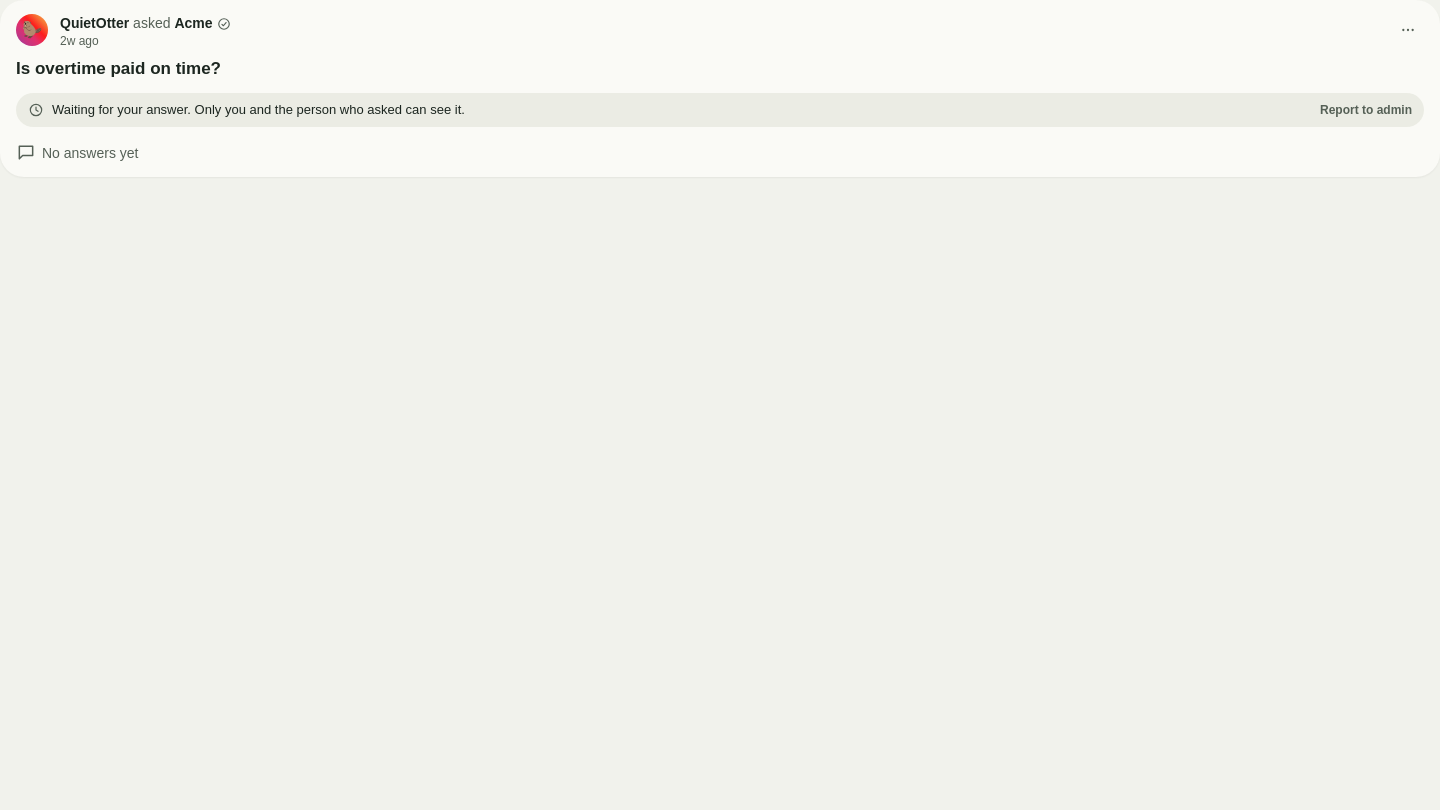
Test: the company's owner reports a question to the admins from the card itself
Click the button "Report to admin".
click(1366, 110)  # box [1320,102,1412,118]
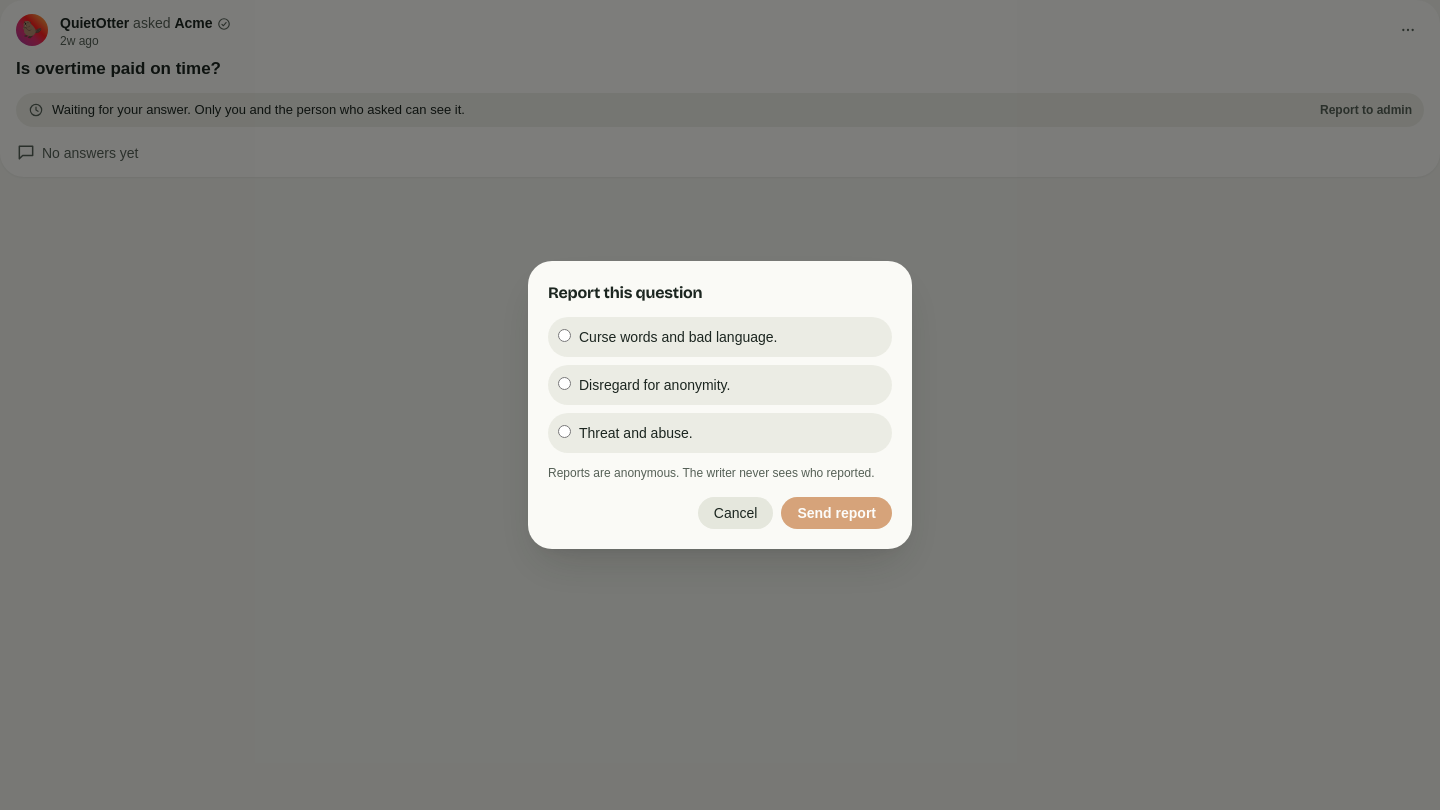
Click the radio button labelled "Threat and abuse.".
click(564, 432)  # box [558,425,571,438]
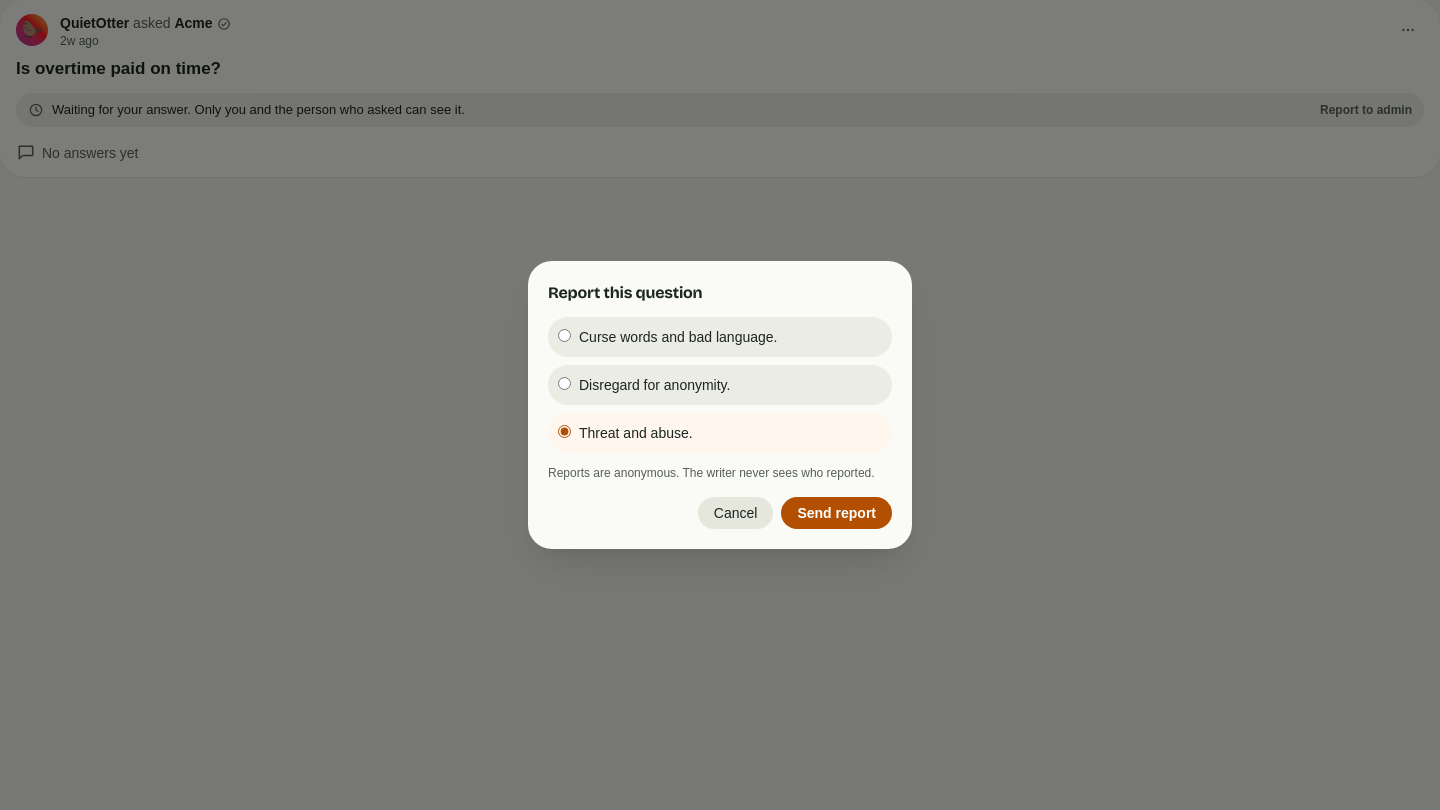
Click the button "Send report".
click(837, 513)  # box [781,497,892,529]
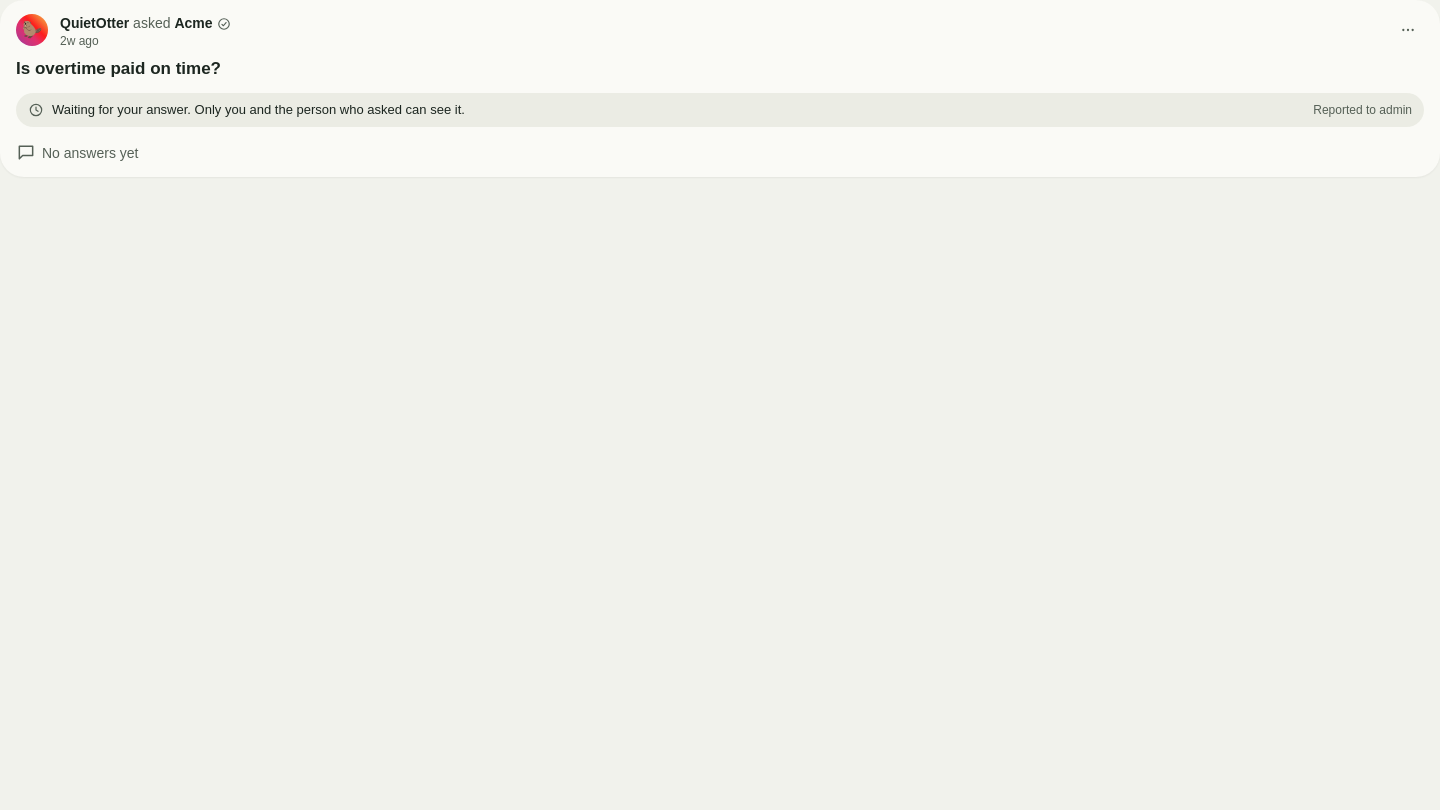
Check: the text "Reported to admin" is shown, box [1313,102,1412,118]
